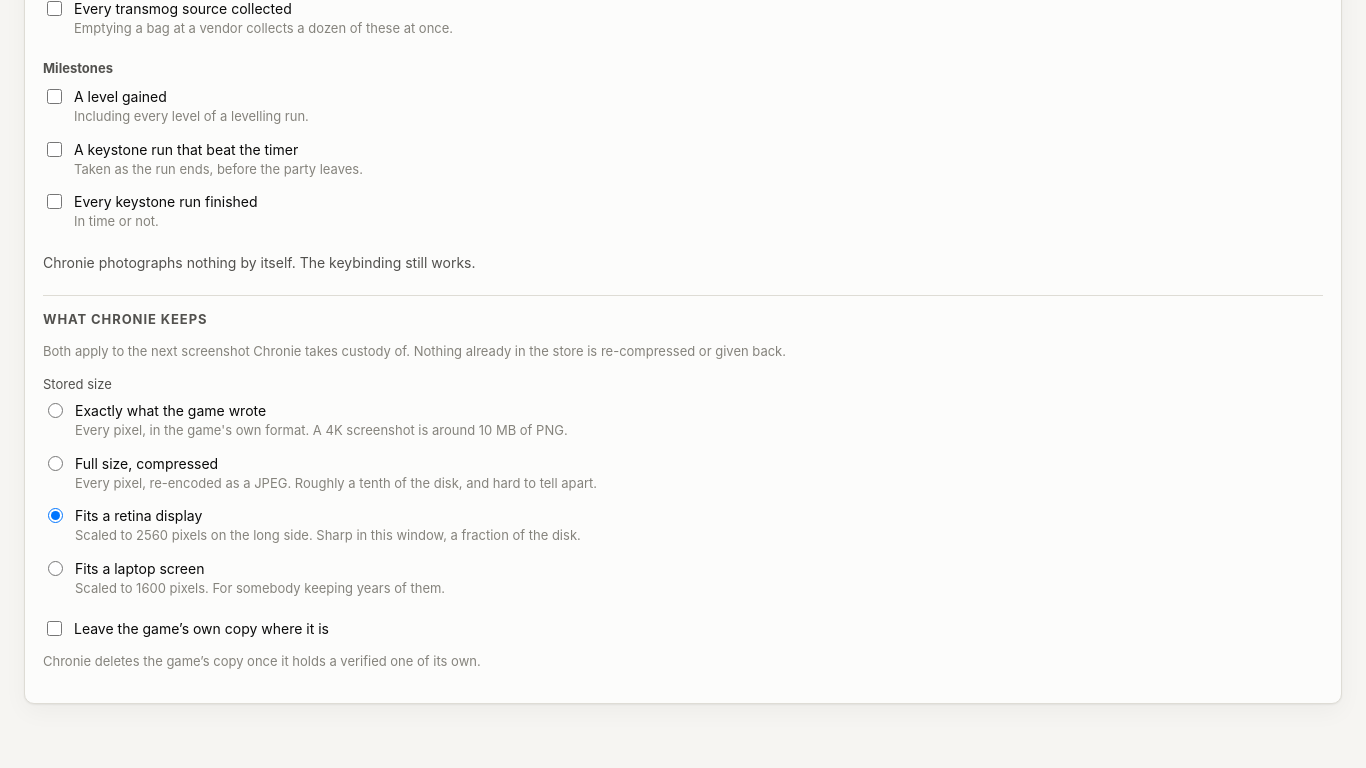
CapturePanel › says what happens to the game's own copy either way
(page scrolled)
Check: the text with id "capture-storage-state" shows "deletes the game’s copy", box [43,653,481,669]
What coordinates should you click on to do the following:
click the checkbox labelled "Leave the game’s own copy where it is"
I would click on:
 (54, 629)
Its box is [47,621,62,636].
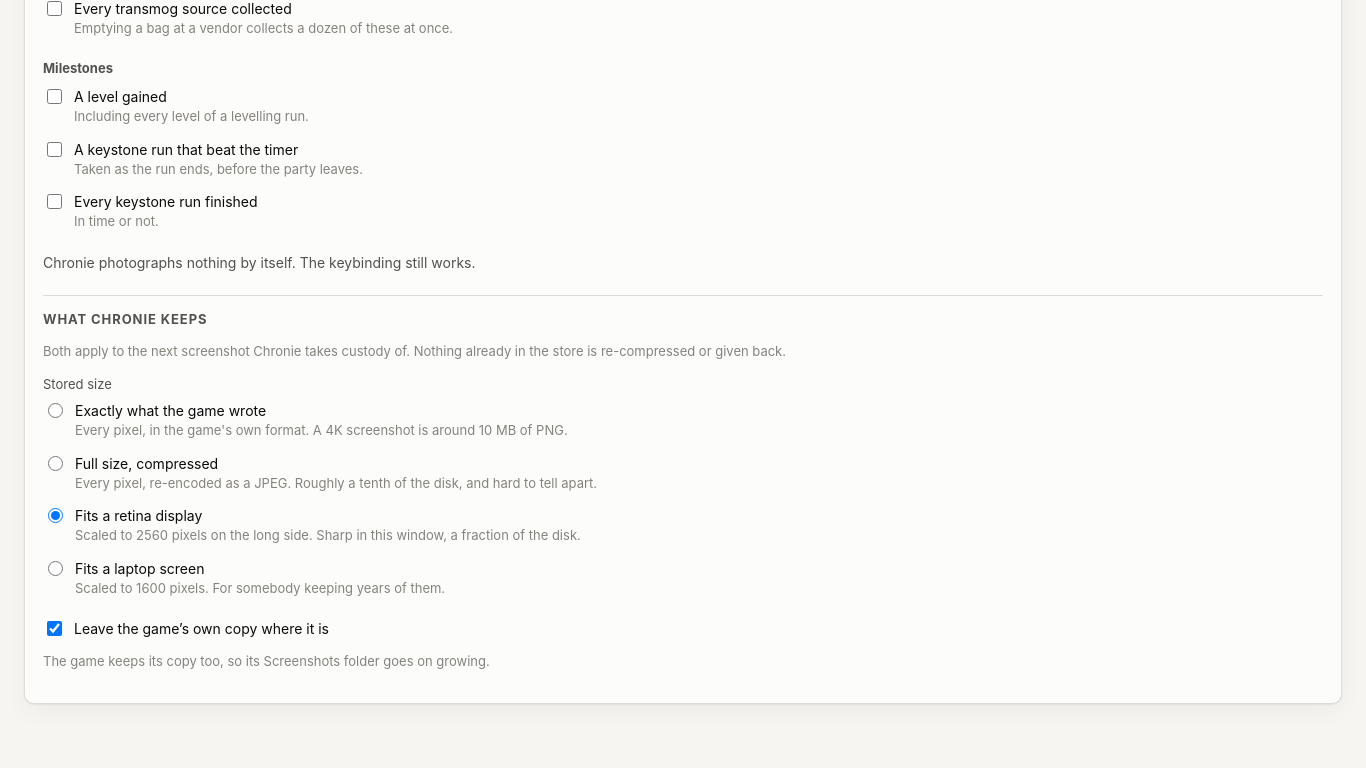
Check: the text with id "capture-storage-state" shows "goes on growing", box [43,653,490,669]
